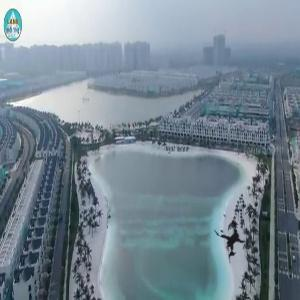drone: (195, 206, 267, 278)
